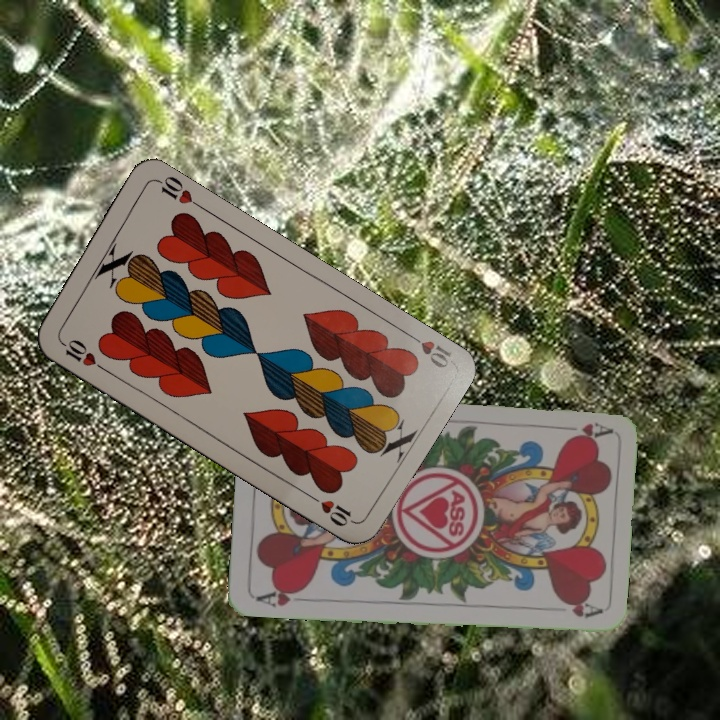H10: (402, 328, 455, 371), (55, 335, 108, 374)
HA: (252, 582, 309, 610), (562, 418, 612, 444)
